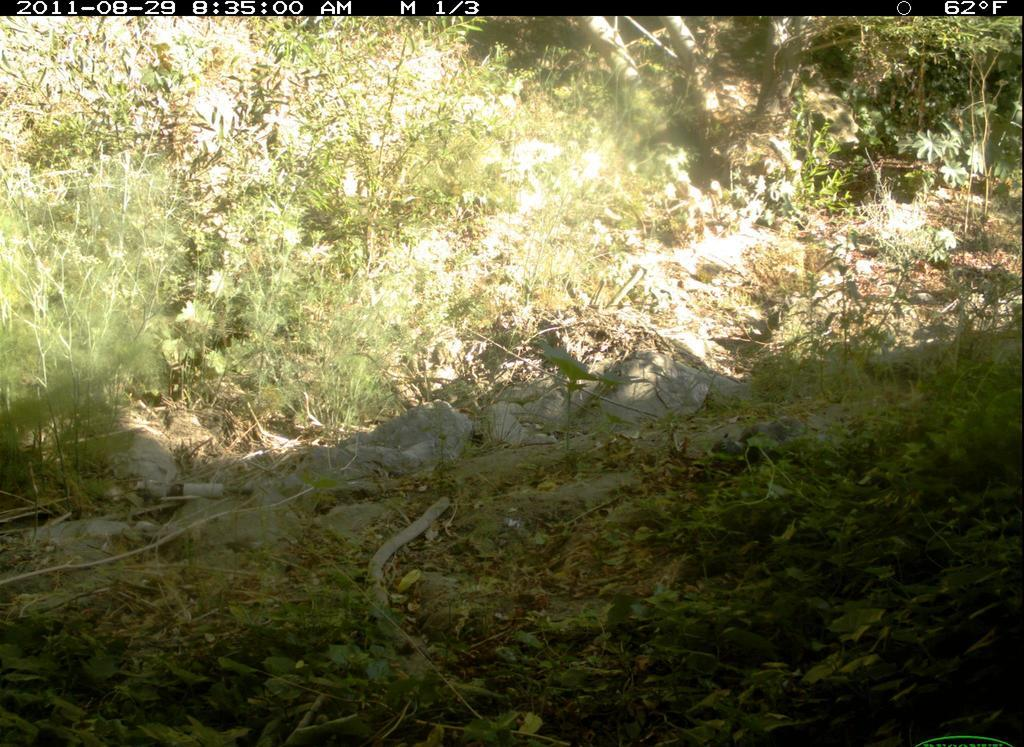squirrel: (705, 417, 808, 475)
